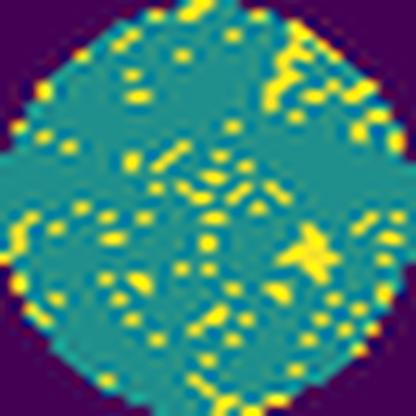Loc: (260, 23, 316, 115), (275, 221, 345, 286)
